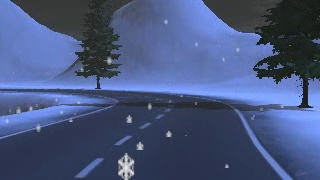Lane: (0, 89, 288, 179)
